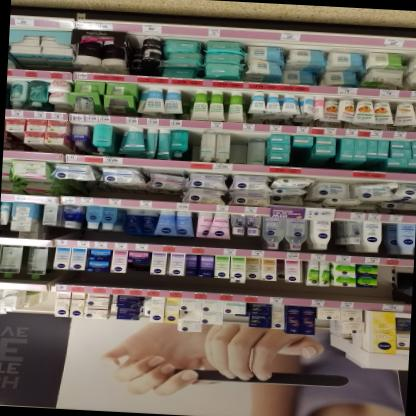empty_space: (382, 263, 410, 293)
